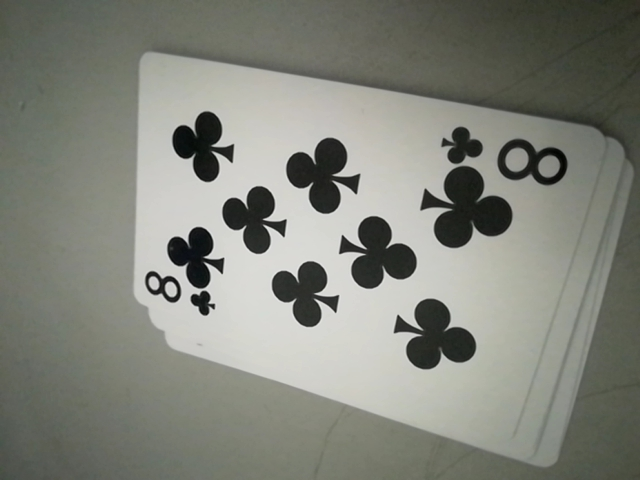mh 8: (438, 124, 574, 184), (140, 268, 217, 321)
